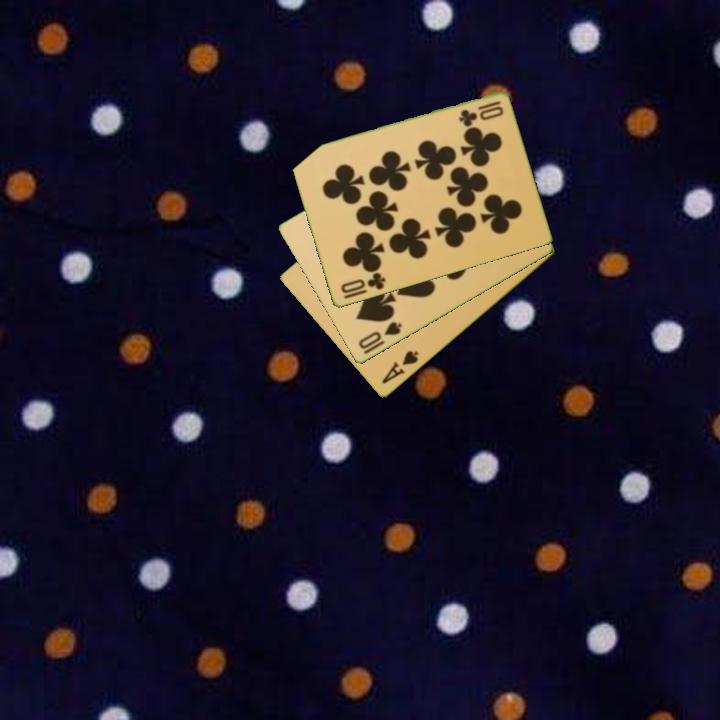10c: (455, 98, 506, 128), (337, 269, 388, 297)
10s: (355, 319, 405, 353)
As: (378, 347, 422, 387)
